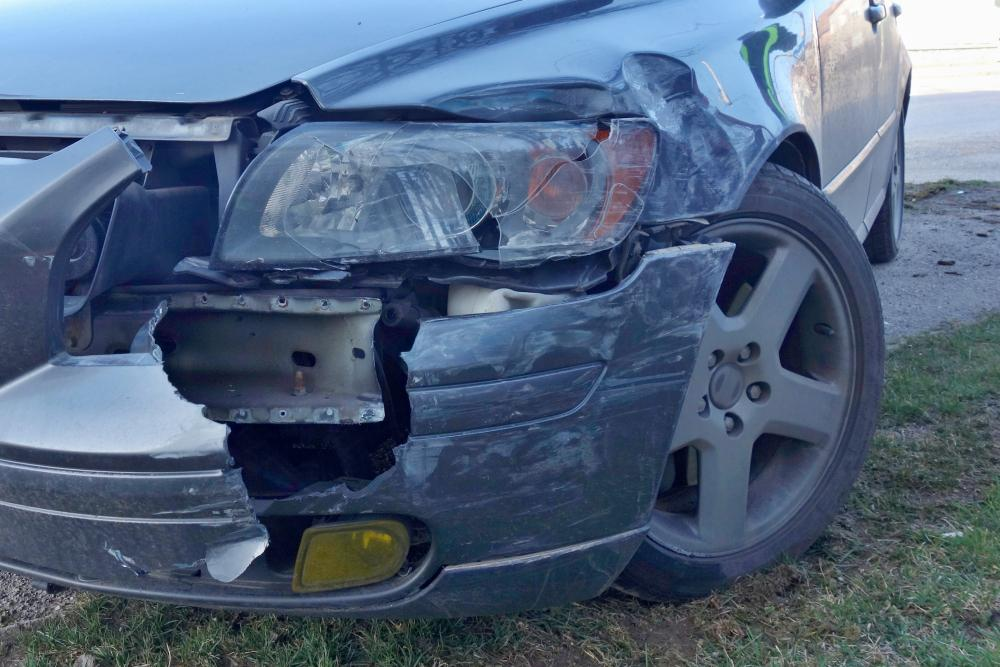crack: (149, 305, 420, 518)
dent: (422, 54, 776, 223)
lamp broken: (211, 114, 662, 267)
scratch: (394, 242, 733, 505)
